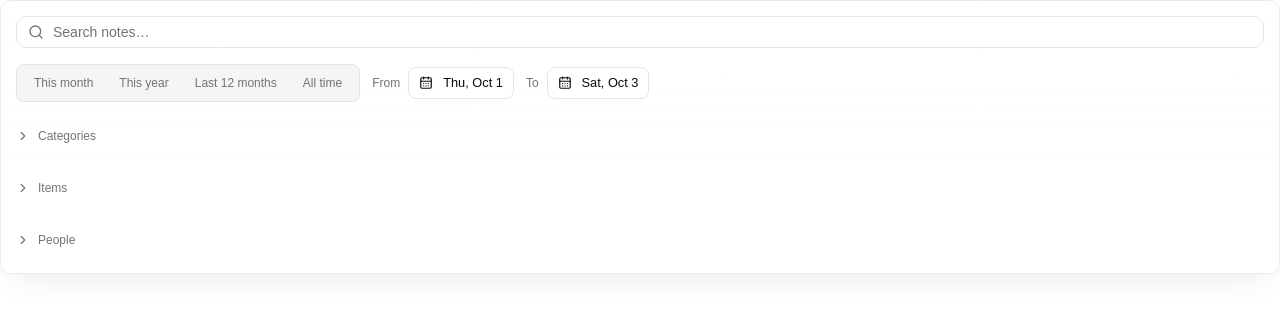
Test: Ledger filter sections › open on click to reveal the chips, and close again
Click the button "Categories": (67, 136) 16,118 -> 1264,154
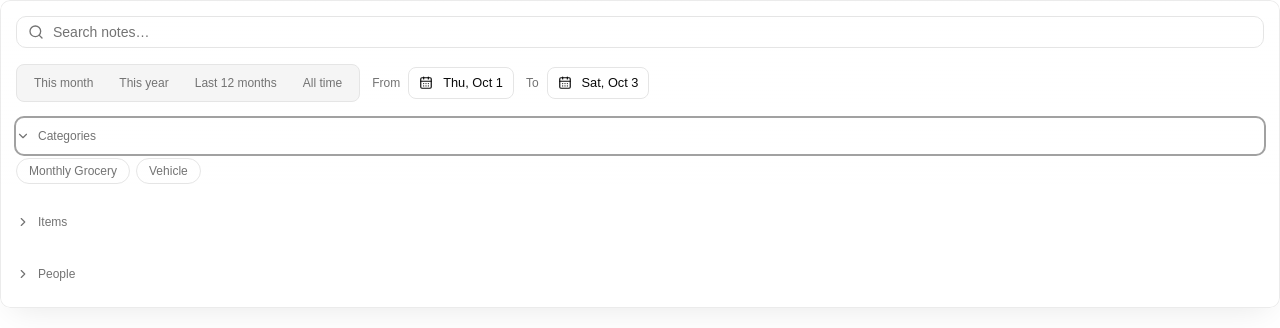
Expected: the button "Categories" is expanded, 16,118 -> 1264,154
Click the button "Vehicle": (168, 171) 136,158 -> 201,184
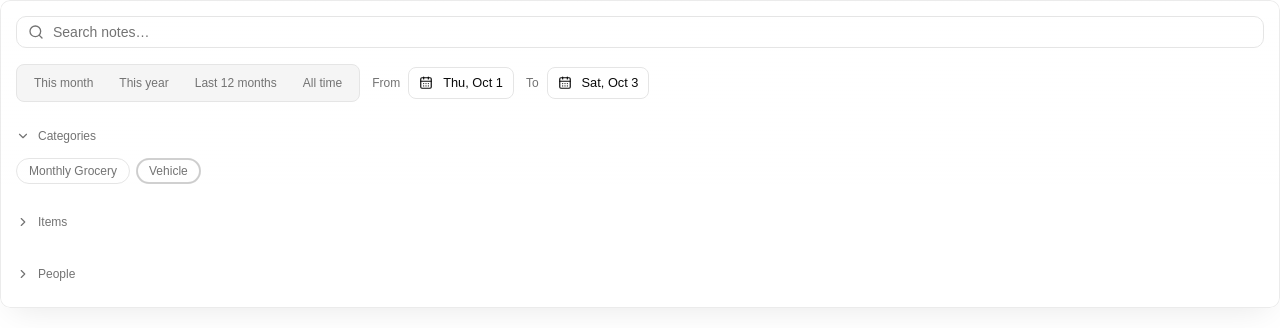
Click the button "Categories": (67, 136) 16,118 -> 1264,154
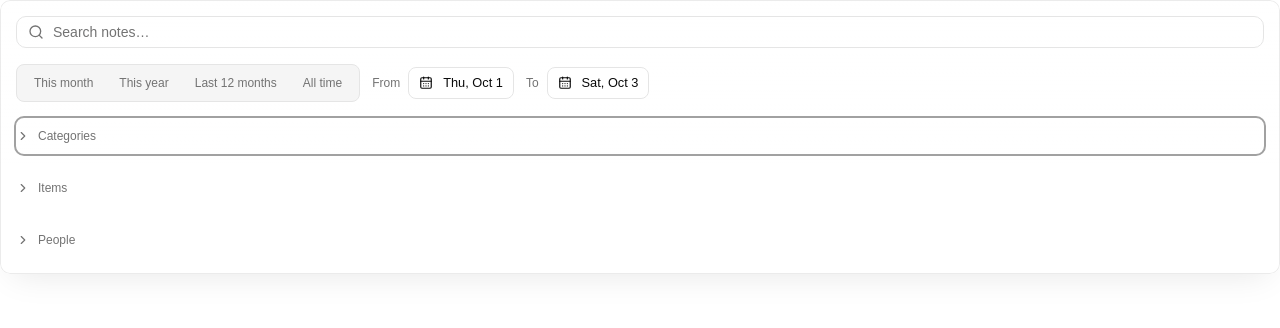
Expected: the button "Vehicle" is gone
